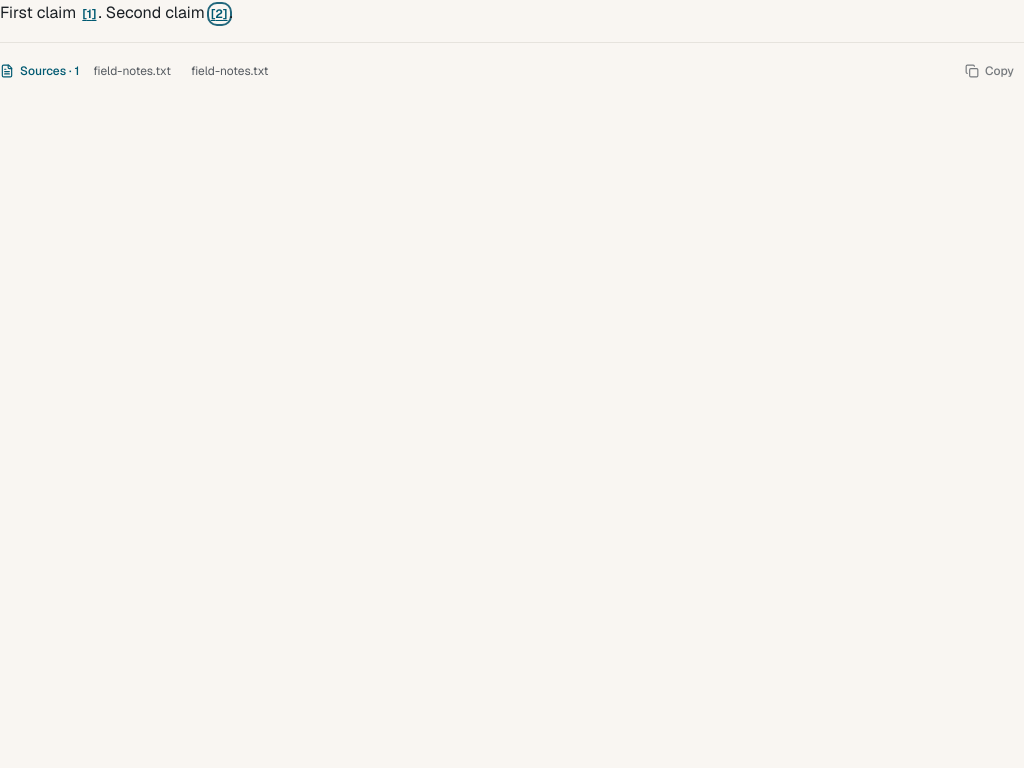
answer citation interaction › maps keyboard-accessible inline markers to the backend citation array order
This screenshot has width=1024, height=768.
Press Enter
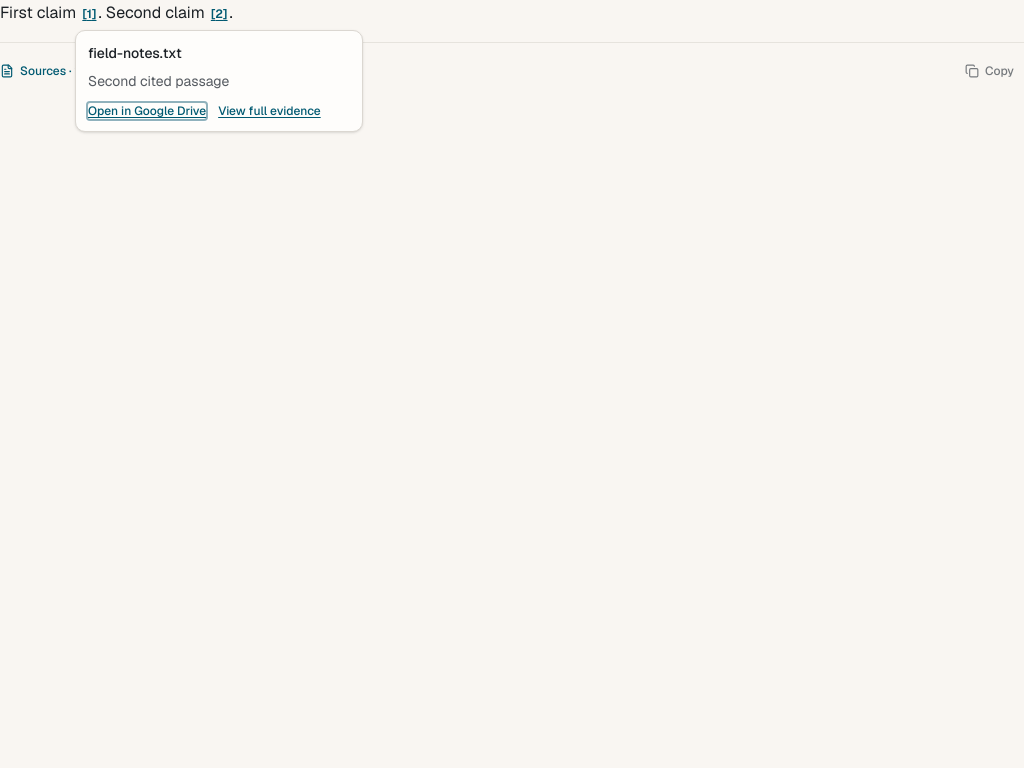
Expected: the text "Second cited passage" is shown, [88,72,229,90]
Click the button named "view citation 1".
click(89, 14)  # box [82,6,96,22]
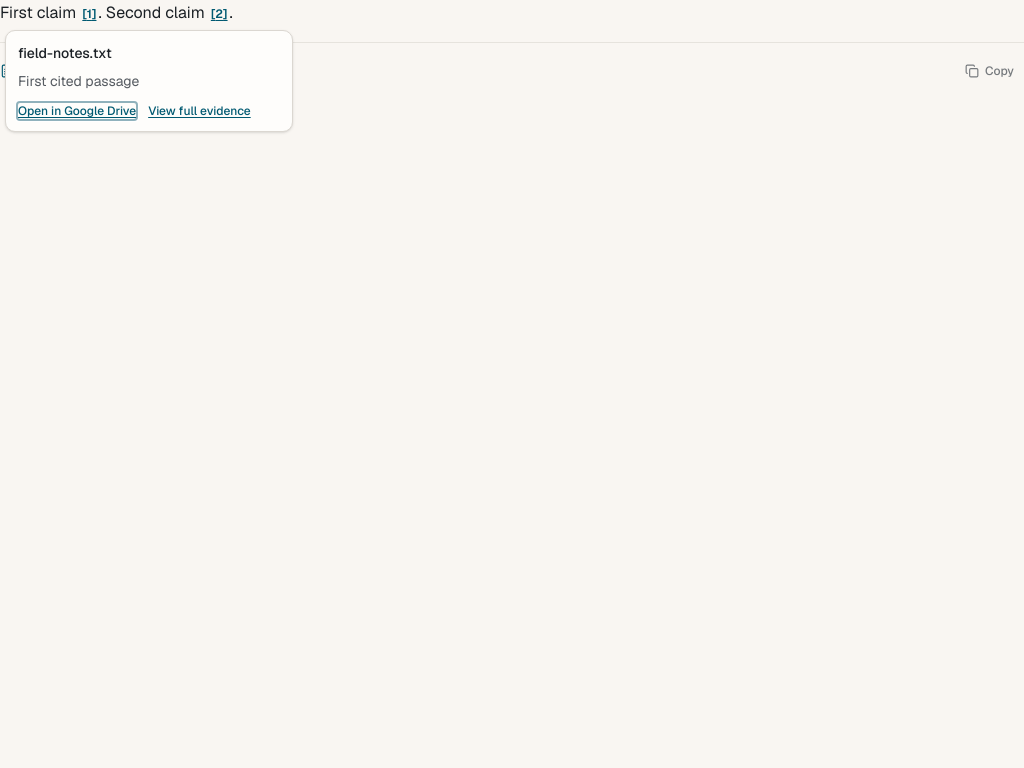
Expected: the text "First cited passage" is shown, [18,72,139,90]
